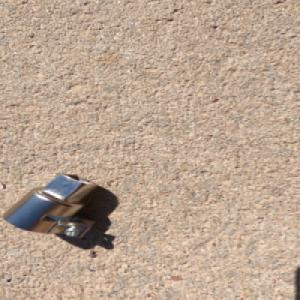MetalPart: (1, 172, 101, 239)
